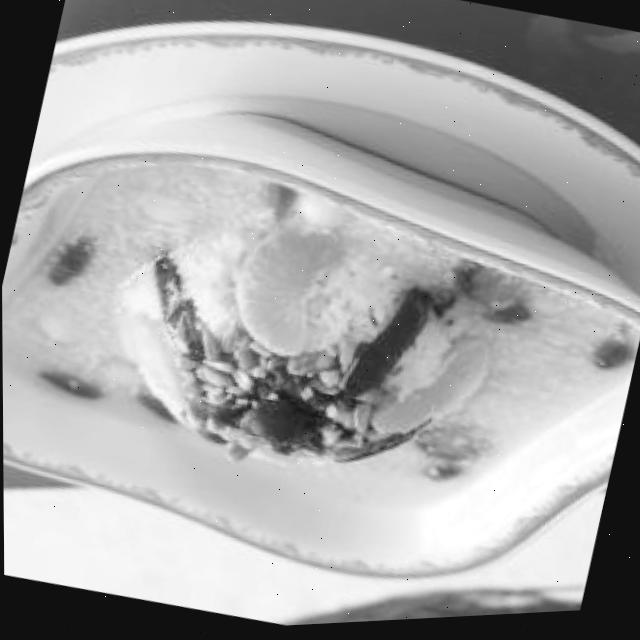米饭主食: (1, 75, 640, 622)
